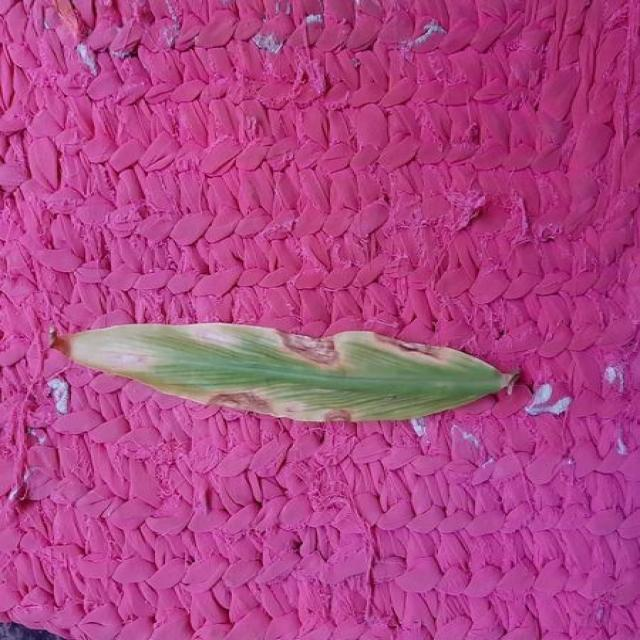bacterial wilt: (55, 324, 513, 422)
ginger: (52, 322, 518, 422)
